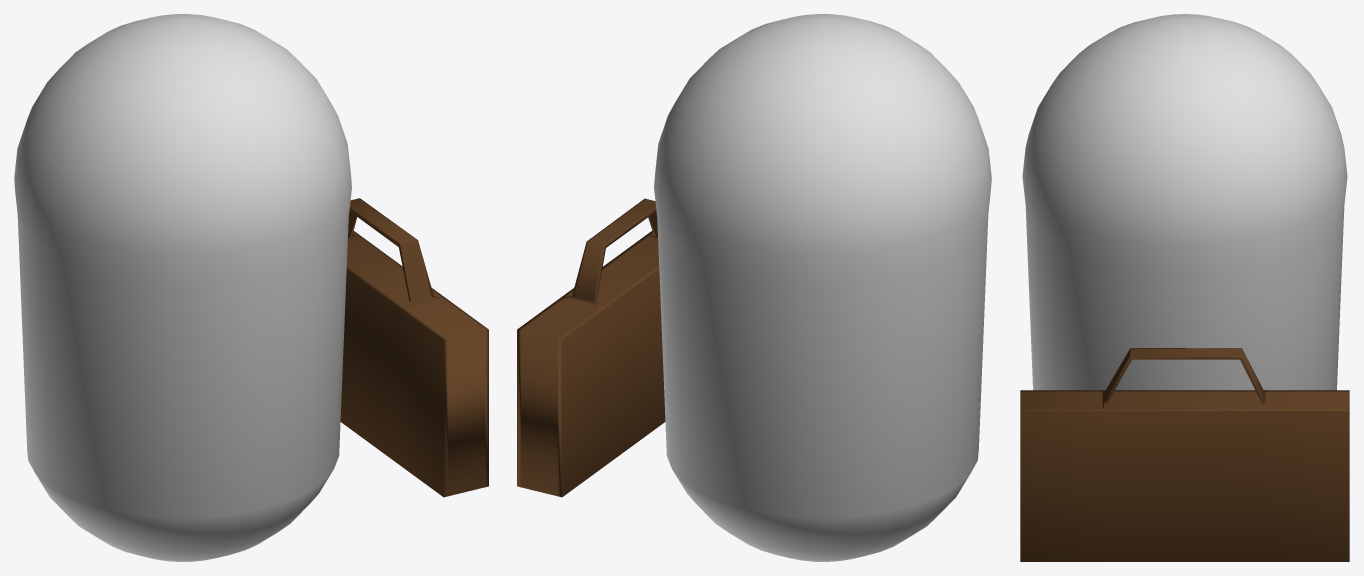
Rendered from PasserbyModel.fbx.
3 views of the same model, side by side, from view 1: azimuth 30°, elevation 25°; view 2: azimuth 150°, elevation 25°; view 3: azimuth 270°, elevation 25° (orthographic). The views are drawn at different scales.
Parts seen in each view (by area): view 1: Body, Briefcase; view 2: Body, Briefcase; view 3: Body, Briefcase.
Boxes of the visible parts, x1,y1,x2,y2 form: Body: (14,14,351,561); Briefcase: (340,198,488,497); Body: (654,14,991,561); Briefcase: (517,198,665,497); Body: (1022,14,1347,390); Briefcase: (1020,348,1349,561).
Bounding box in the file's own units: 239 × 322 × 194.
